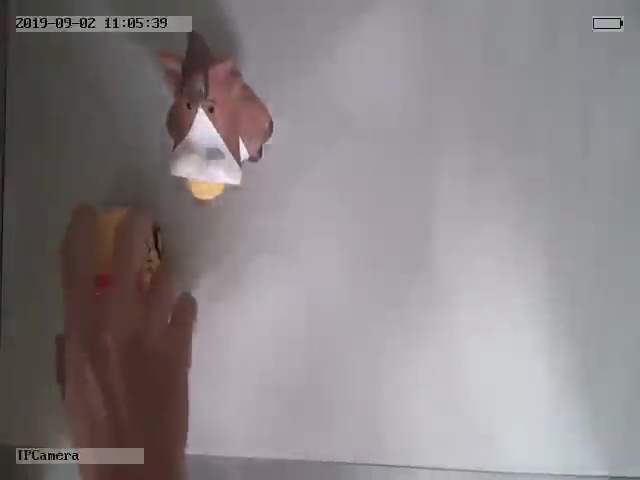horse: (154, 35, 273, 202)
